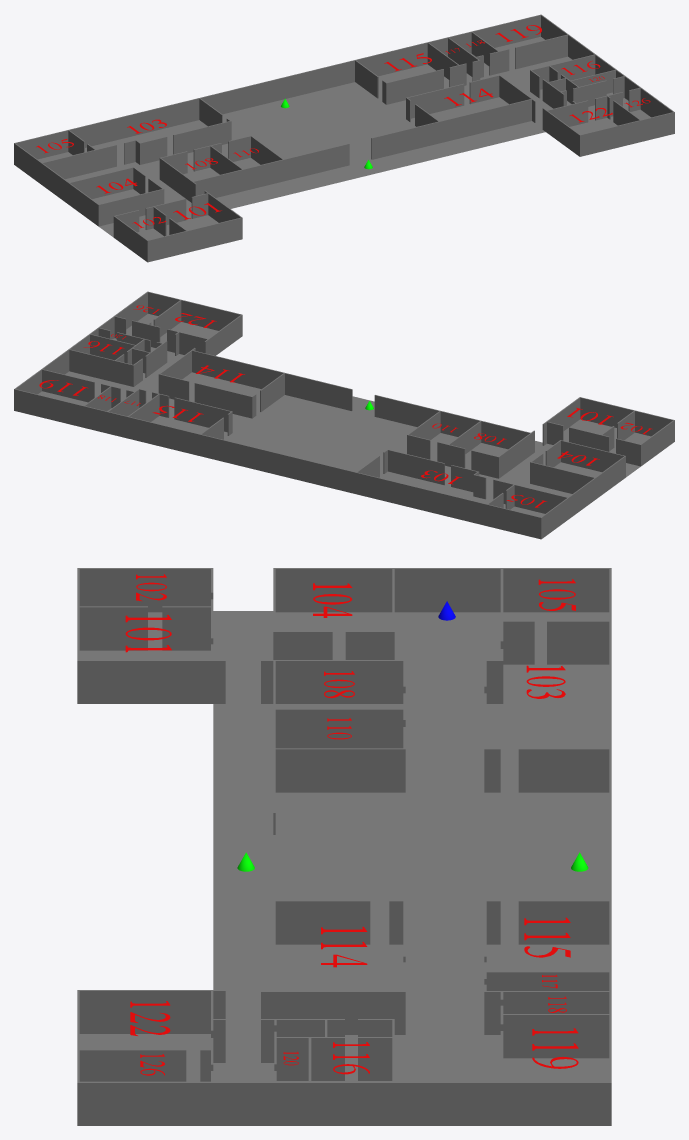
The model's file is gould1.obj.
3 renders of one model, top to bottom at view 1: azimuth 30°, elevation 25°; view 2: azimuth 150°, elevation 25°; view 3: azimuth 270°, elevation 25°, orthographic. The views are drawn at different scales.
Parts seen in each view (by area): view 1: pPlane1, pCube1, pCube69, pCube21, pCube8, pCube7, pCube2, pCube4, pCube29, pCube42, pCube56, pCube27 (+32 smaller); view 2: pPlane1, pCube1, pCube69, pCube21, pCube2, pCube4, pCube8, pCube7, pCube72, pCube42, pCube28, pCube29 (+30 smaller); view 3: pPlane1, pCube4, pCube2, pCube5, pCube31, pCube70, pCube33, pCube32, pCube52, pCube62, pCube71, pCube67 (+17 smaller).
Part boxes in pixels (bbox=[...]): pPlane1: bbox=[38, 36, 628, 237]; pCube1: bbox=[14, 15, 540, 163]; pCube69: bbox=[371, 99, 532, 159]; pCube21: bbox=[192, 143, 349, 197]; pCube8: bbox=[579, 112, 674, 156]; pCube7: bbox=[148, 217, 242, 261]; pCube2: bbox=[14, 143, 98, 225]; pCube4: bbox=[540, 14, 673, 117]; pCube29: bbox=[41, 145, 116, 184]; pCube42: bbox=[173, 121, 231, 154]; pCube56: bbox=[386, 69, 443, 104]; pCube27: bbox=[98, 188, 164, 226]; pPlane1: bbox=[38, 338, 640, 517]; pCube1: bbox=[15, 389, 541, 539]; pCube69: bbox=[191, 350, 352, 410]; pCube21: bbox=[374, 395, 531, 454]; pCube2: bbox=[540, 456, 625, 538]; pCube4: bbox=[14, 292, 147, 410]; pCube8: bbox=[147, 291, 242, 336]; pCube7: bbox=[579, 397, 673, 436]; pCube72: bbox=[69, 349, 134, 386]; pCube42: bbox=[387, 449, 444, 485]; pCube28: bbox=[531, 462, 596, 499]; pCube29: bbox=[493, 479, 568, 518]; pPlane1: bbox=[213, 611, 609, 1081]; pCube4: bbox=[79, 1081, 611, 1125]; pCube2: bbox=[275, 568, 609, 612]; pCube5: bbox=[79, 660, 225, 703]; pCube31: bbox=[261, 660, 404, 703]; pCube70: bbox=[79, 990, 225, 1033]; pCube33: bbox=[273, 748, 405, 792]; pCube32: bbox=[273, 708, 404, 748]; pCube52: bbox=[77, 568, 210, 612]; pCube62: bbox=[503, 1014, 611, 1058]; pCube71: bbox=[261, 991, 405, 1034]; pCube67: bbox=[275, 900, 370, 944].
Bounding box in the file's own units: 5126 × 201 × 2249.
